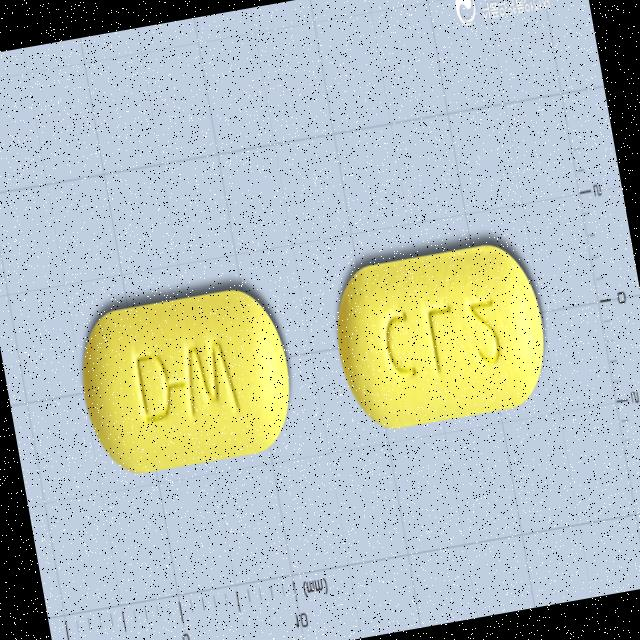Clearmycin - 250mg: (70, 281, 303, 483), (325, 237, 556, 438)
